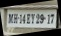character: (29, 13, 35, 24), (7, 14, 13, 24), (49, 13, 54, 25), (25, 13, 30, 24), (12, 13, 17, 23), (39, 14, 44, 24), (35, 13, 39, 24), (18, 14, 22, 24), (46, 14, 50, 24), (21, 14, 25, 23)
